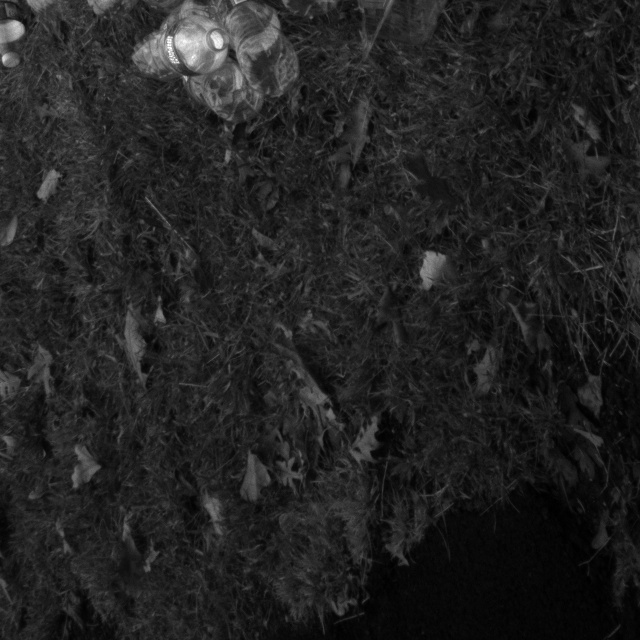bottle: (126, 0, 232, 86)
container: (277, 0, 520, 61)
